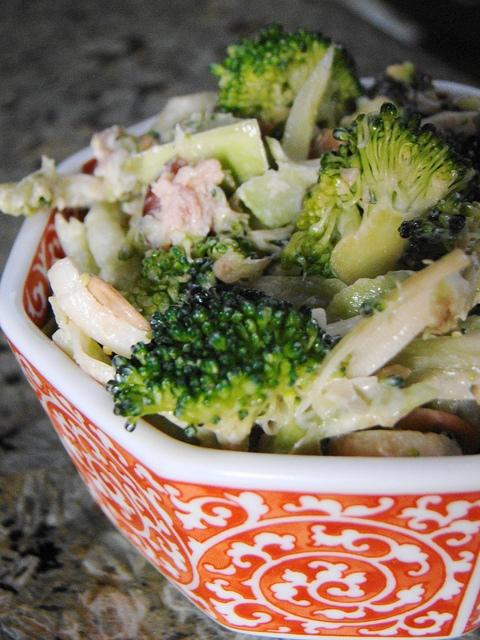broccoli: (104, 285, 343, 453), (278, 103, 478, 284), (209, 26, 366, 142), (396, 192, 480, 271), (142, 246, 188, 299)
